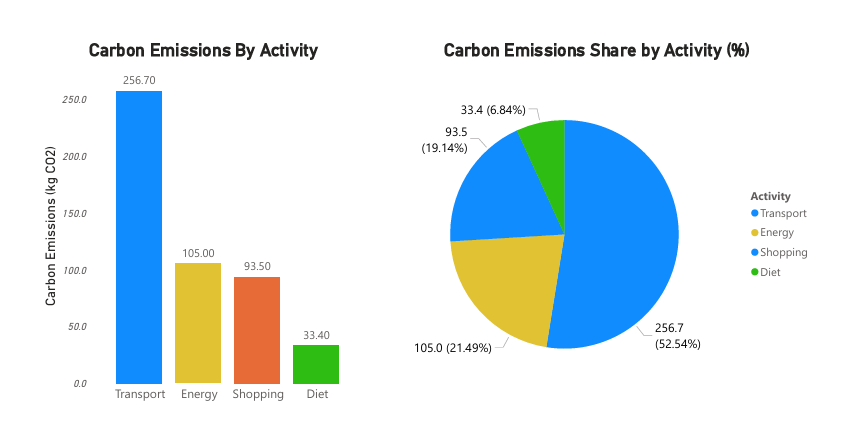

The page's visual inventory and layout, read from the dashboard file:
{"tool":"powerbi","page":{"name":"Page 1","canvas":[1280,720],"ordinal":0},"visuals":[{"type":"columnChart","title":"Carbon Emissions By Activity","fields":{"Category":["merged_data.Activity"],"Y":["Sum(merged_data.Emissions (kg CO2))"]},"box":[62.2,94.1,470.3,529.1],"z":0},{"type":"pieChart","title":"Carbon Emissions Share by Activity (%)","fields":{"Category":["merged_data.Activity"],"Y":["Sum(merged_data.Emissions (kg CO2))"]},"box":[542.6,94.1,633.3,529.1],"z":1000}]}

Visuals, with their boxes on the page's 1280x720 design canvas (x1, y1, x2, y2). These are canvas units, not pixel positions in the 844x428 screenshot, which may show the page scaled, cropped or inside an application window:
"Carbon Emissions By Activity" columnChart: bbox=(62, 94, 532, 623)
"Carbon Emissions Share by Activity (%)" pieChart: bbox=(543, 94, 1176, 623)
